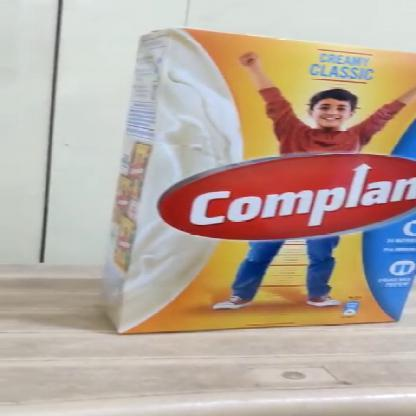Complan Classic Creme: (107, 40, 415, 327)
